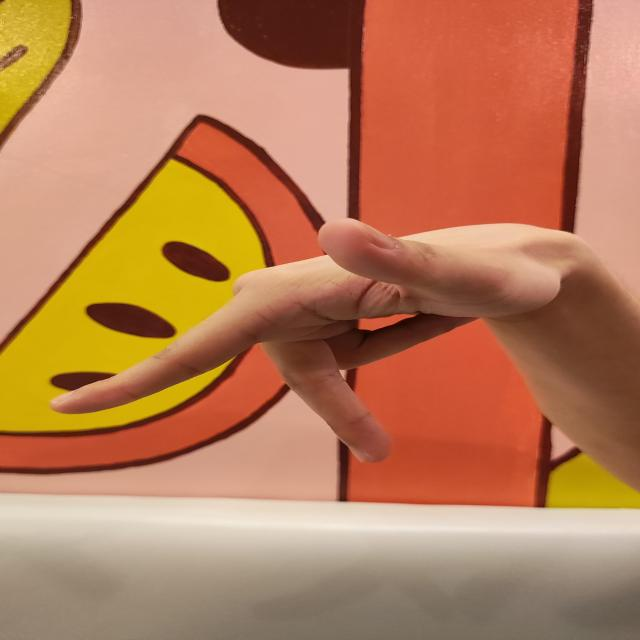P: (44, 216, 566, 464)
